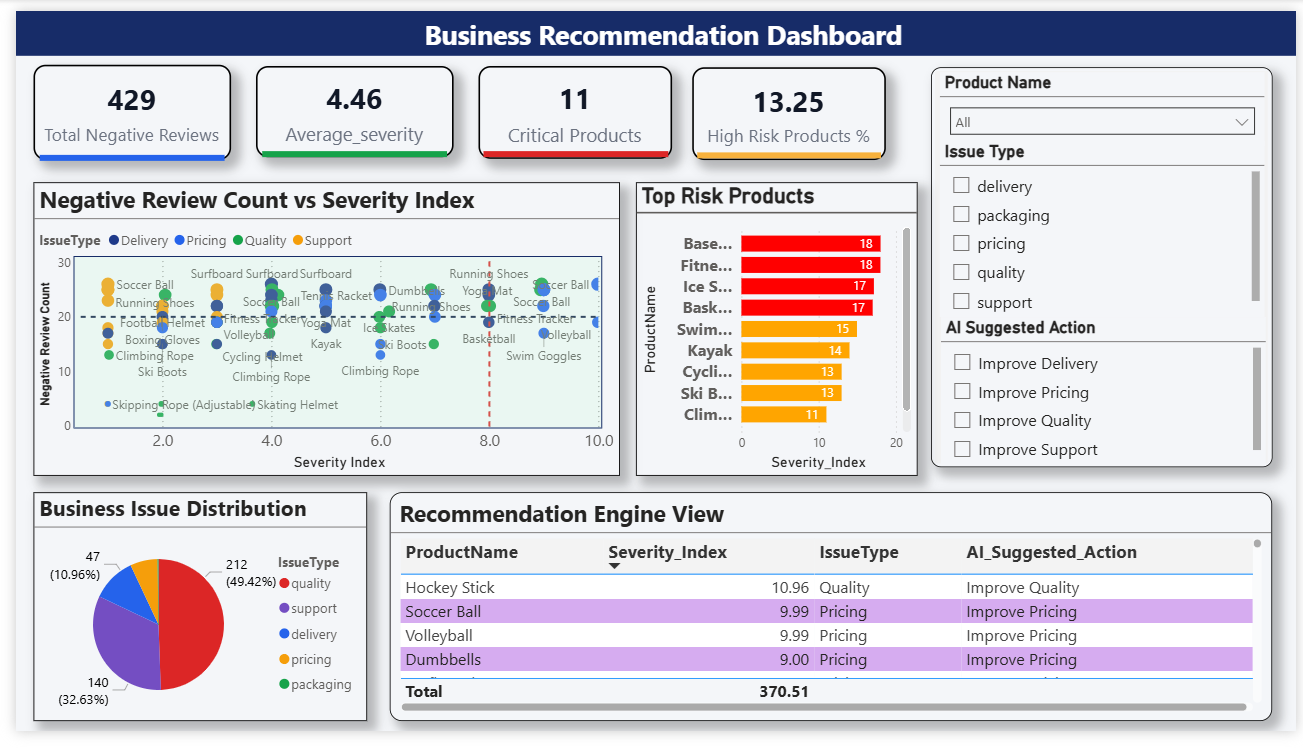

This screenshot's page, from the dashboard's own definition file:
{"tool":"powerbi","page":{"name":"Business Recommendation Dashboard","canvas":[1280,720],"ordinal":6},"visuals":[{"type":"shape","box":[915,56.2,341.2,400],"z":0},{"type":"card","fields":{"Values":["fact_ai_product_recommendations.Total Negative Reviews"]},"box":[17.5,53.8,197.5,95],"z":1000},{"type":"card","fields":{"Values":["final_ai_output.Average_severity"]},"box":[240,55,197.5,91.2],"z":2000},{"type":"card","fields":{"Values":["fact_ai_business_recommendations.Critical Products"]},"box":[462.5,55,193.8,92.5],"z":3000},{"type":"clusteredBarChart","title":"Top Risk Products","fields":{"Category":["fact_ai_product_recommendations.ProductName"],"Y":["fact_ai_product_recommendations.Severity_Index"]},"box":[620,171.2,281.2,293.8],"z":4000},{"type":"scatterChart","title":"Negative Review Count vs Severity Index","fields":{"Category":["fact_ai_product_recommendations.ProductName"],"X":["Sum(fact_ai_business_recommendations.Severity_Index)"],"Y":["Sum(fact_ai_product_recommendations.negative_count)"],"Size":["Sum(fact_ai_product_recommendations.negative_count)"],"Series":["fact_ai_business_recommendations.IssueType"]},"box":[17.5,171.2,586.2,293.8],"z":5000},{"type":"tableEx","title":"Recommendation Engine View","fields":{"Values":["fact_ai_product_recommendations.ProductName","Sum(fact_ai_business_recommendations.Severity_Index)","fact_ai_business_recommendations.IssueType","fact_ai_business_recommendations.AI_Suggested_Action"]},"box":[373.8,481.2,882.5,228.8],"z":6000},{"type":"slicer","title":"Product Name","fields":{"Values":["final_ai_output.ProductName"]},"box":[923.8,61.2,325,73.8],"z":7000},{"type":"textbox","box":[0,0,1280,45],"z":8000},{"type":"shape","box":[23.8,82.5,185,128.8],"z":9000},{"type":"shape","box":[246.2,78.8,185,128.8],"z":10000},{"type":"shape","box":[467.5,78.8,185,128.8],"z":11000},{"type":"shape","box":[57.5,245,528.8,172.5],"z":12000},{"type":"pieChart","title":"Business Issue Distribution","fields":{"Category":["final_ai_output.IssueType"],"Y":["CountNonNull(final_ai_output.ProductID)"]},"box":[17.5,481.2,333.8,228.8],"z":15000},{"type":"slicer","title":"AI Suggested Action","fields":{"Values":["fact_ai_business_recommendations.AI_Suggested_Action"]},"box":[925,306.2,325,148.8],"z":16000},{"type":"card","fields":{"Values":["fact_ai_business_recommendations.High Risk Products %"]},"box":[676,55.8,193.8,92.5],"z":17000},{"type":"slicer","title":"Issue Type","fields":{"Values":["final_ai_output.IssueType"]},"box":[923.8,130,325,176.2],"z":18000},{"type":"shape","box":[681.2,82.5,183.8,123.8],"z":19000}]}

Visuals, with their boxes in screenshot pixels (x1, y1, x2, y2), scaled from the page's 1280x720 canvas onto the 1303x748 screenshot:
shape: box=[931, 58, 1279, 474]
card - fact_ai_product_recommendations.Total Negative Reviews: box=[18, 56, 219, 155]
card - final_ai_output.Average_severity: box=[244, 57, 445, 152]
card - fact_ai_business_recommendations.Critical Products: box=[471, 57, 668, 153]
"Top Risk Products" clusteredBarChart: box=[631, 178, 917, 483]
"Negative Review Count vs Severity Index" scatterChart: box=[18, 178, 615, 483]
"Recommendation Engine View" tableEx: box=[381, 500, 1279, 738]
"Product Name" slicer: box=[940, 64, 1271, 140]
textbox: box=[0, 0, 1302, 47]
shape: box=[24, 86, 213, 220]
shape: box=[251, 82, 439, 216]
shape: box=[476, 82, 664, 216]
shape: box=[59, 255, 597, 434]
"Business Issue Distribution" pieChart: box=[18, 500, 358, 738]
"AI Suggested Action" slicer: box=[942, 318, 1272, 473]
card - fact_ai_business_recommendations.High Risk Products %: box=[688, 58, 885, 154]
"Issue Type" slicer: box=[940, 135, 1271, 318]
shape: box=[693, 86, 881, 214]
